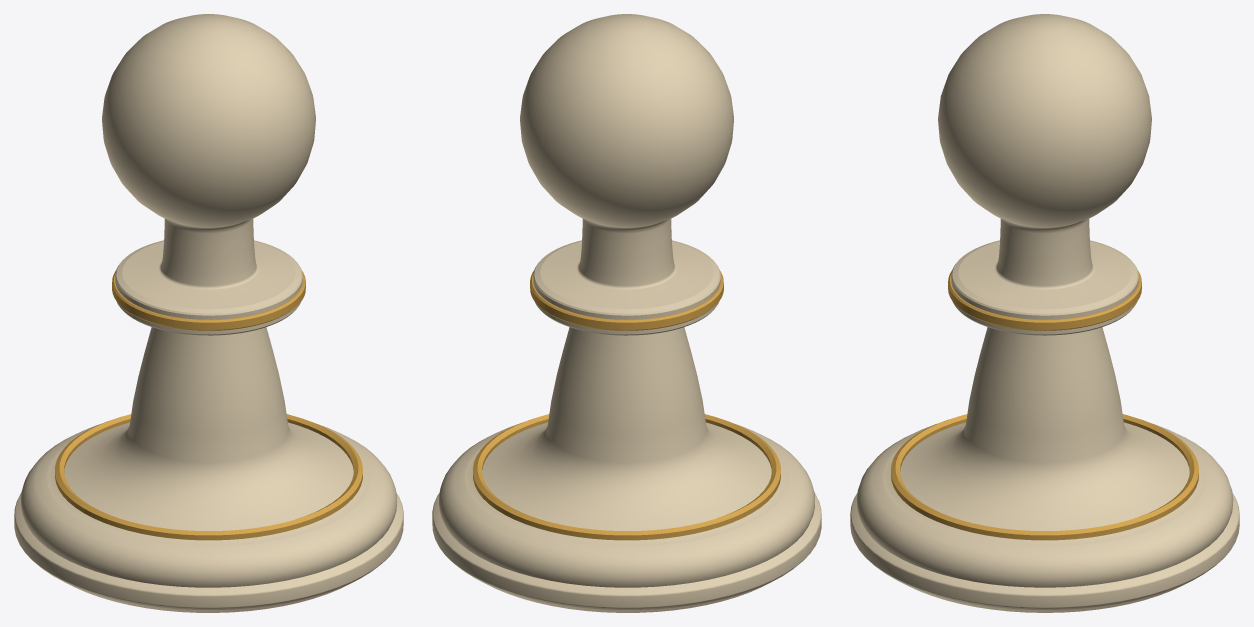
File: pawn.obj
3 views of the same model, side by side, from view 1: azimuth 30°, elevation 25°; view 2: azimuth 150°, elevation 25°; view 3: azimuth 270°, elevation 25° (orthographic).
Visible parts, largest first — view 1: pawn; view 2: pawn; view 3: pawn.
Boxes of the visible parts, x1,y1,x2,y2 form: pawn: [14, 14, 403, 612]; pawn: [432, 14, 821, 612]; pawn: [850, 14, 1239, 612].
Size of the model in its own units: 0.44 by 0.64 by 0.44.
